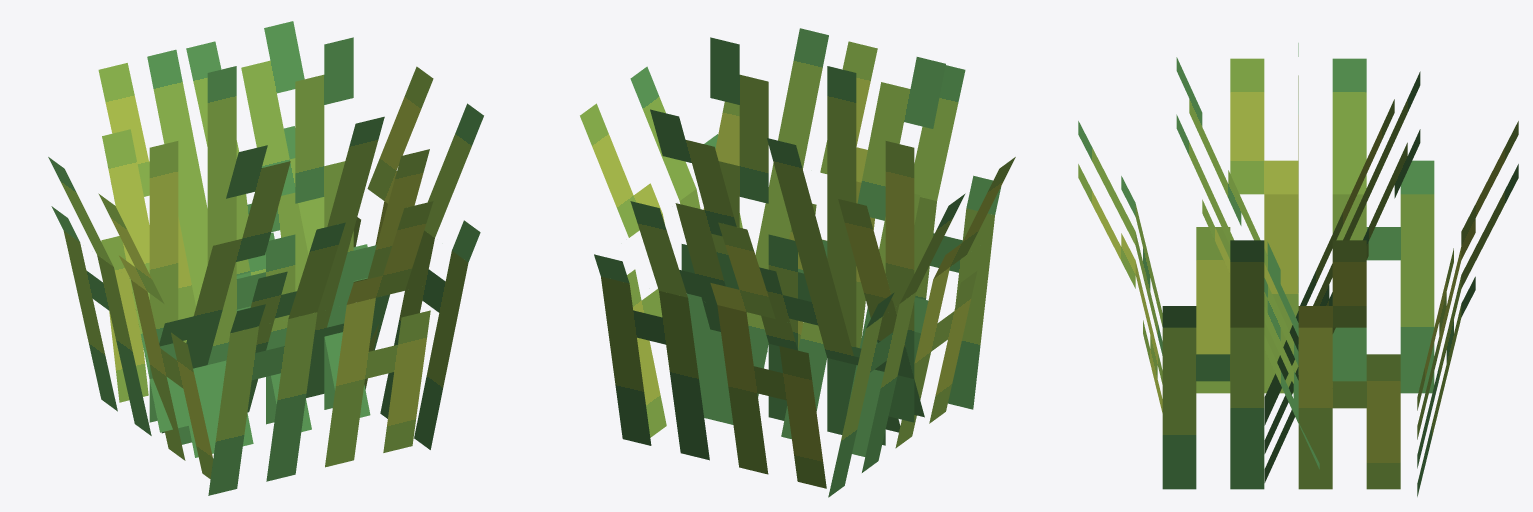
The model's file is wild-grass-clump.gltf.
3 views of the same model, side by side, from view 1: azimuth 30°, elevation 25°; view 2: azimuth 150°, elevation 25°; view 3: azimuth 270°, elevation 25° (orthographic).
Parts seen in each view (by area): view 1: wild-grass-clump (×11); view 2: wild-grass-clump (×11); view 3: wild-grass-clump (×10).
Boxes of the visible parts, <box> form: wild-grass-clump (×11): <box>48,21,483,495</box>; wild-grass-clump (×11): <box>580,28,1015,497</box>; wild-grass-clump (×10): <box>1078,57,1518,496</box>.
Size of the model in its own units: 0.7919 by 0.7513 by 0.8112.
1 material, 1 textured.
